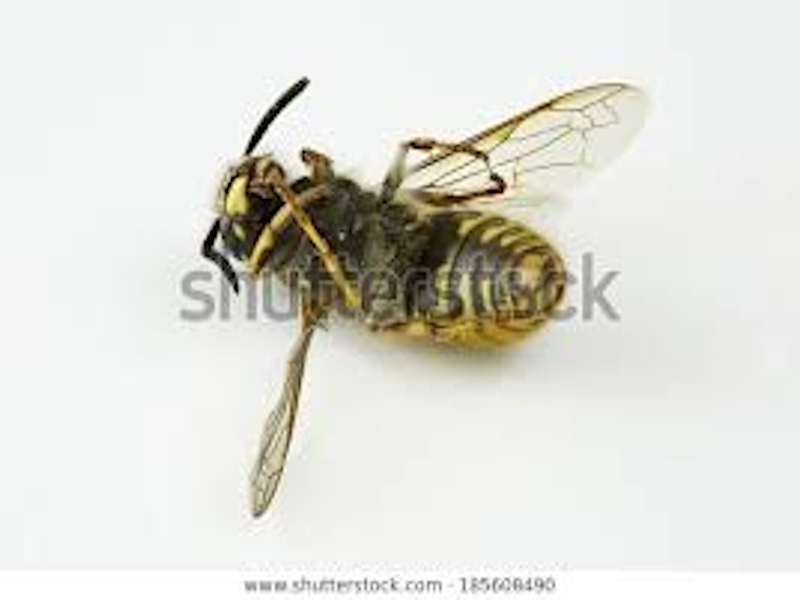chax: (170, 37, 659, 516)
